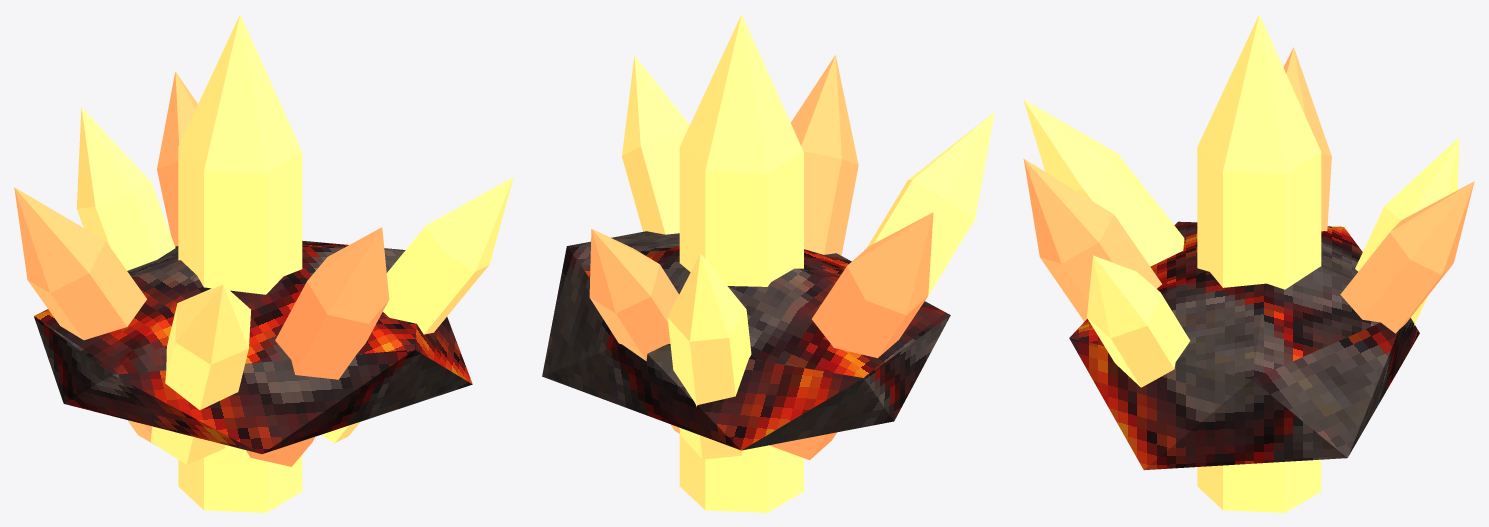
File: ruins_crystals.glb
The picture shows the model from 3 angles, left to right: view 1: azimuth 30°, elevation 25°; view 2: azimuth 150°, elevation 25°; view 3: azimuth 270°, elevation 25°; orthographic projection.
Parts seen in each view (by area): view 1: Crystals, Base; view 2: Crystals, Base; view 3: Crystals, Base.
Boxes of the visible parts, bbox=[...] form: Crystals: bbox=[14, 14, 513, 512]; Base: bbox=[34, 240, 472, 453]; Crystals: bbox=[589, 14, 994, 512]; Base: bbox=[542, 231, 950, 450]; Crystals: bbox=[1023, 14, 1474, 512]; Base: bbox=[1069, 221, 1419, 470].
Bounding box in the file's own units: 1.48 × 1.68 × 1.45.
3 materials, 1 textured.
